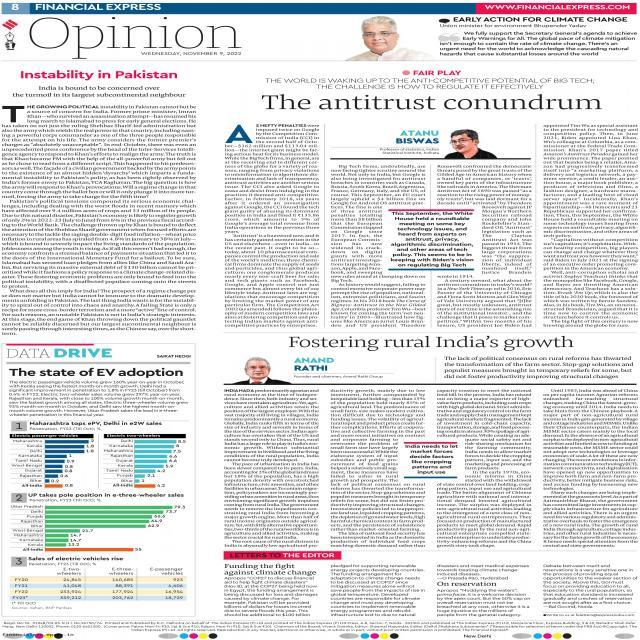Article: (206, 64, 640, 336), (216, 336, 640, 549), (3, 63, 203, 340), (218, 550, 640, 618), (8, 364, 194, 416)
Body: (1, 103, 198, 336), (542, 123, 640, 329), (224, 123, 322, 328), (542, 388, 640, 548), (223, 388, 320, 548), (8, 380, 190, 418), (435, 482, 533, 548), (329, 482, 426, 548), (436, 274, 534, 328), (330, 274, 427, 328), (329, 564, 426, 617), (436, 564, 532, 616), (329, 388, 427, 438), (436, 389, 531, 438), (542, 564, 640, 609), (329, 164, 426, 206), (224, 576, 318, 618), (436, 164, 532, 204), (329, 205, 384, 274), (481, 204, 534, 274), (330, 438, 400, 482), (464, 438, 532, 482)
Date: (139, 50, 243, 56)
Heading: (260, 94, 602, 112), (288, 336, 574, 352), (8, 367, 185, 379), (20, 69, 179, 81), (225, 563, 316, 575)
Highlights: (437, 15, 639, 58), (390, 211, 476, 268), (443, 355, 634, 380), (264, 76, 598, 90), (11, 83, 188, 98), (404, 444, 459, 474), (28, 492, 185, 498), (28, 421, 164, 426), (28, 556, 124, 561)
Image: (9, 505, 186, 552), (10, 567, 186, 601), (9, 434, 95, 488), (104, 434, 186, 487), (346, 15, 435, 60), (233, 356, 290, 384), (444, 128, 496, 158)
Name: (28, 14, 244, 50), (34, 2, 163, 12)
